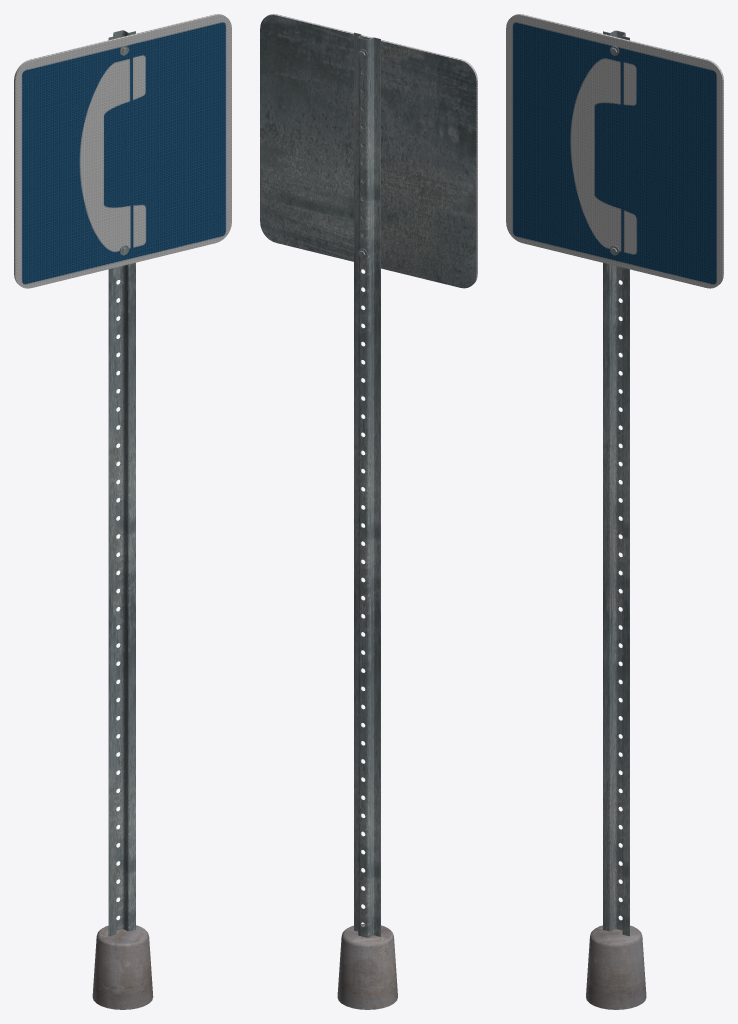
Rendered from telephonesign_nsoc.obj.
3 views of the same model, side by side, from view 1: azimuth 30°, elevation 25°; view 2: azimuth 150°, elevation 25°; view 3: azimuth 330°, elevation 25° (orthographic).
Parts seen in each view (by area): view 1: sign_telephone; view 2: sign_telephone; view 3: sign_telephone.
Part boxes in pixels (bbox=[...]): sign_telephone: bbox=[14, 14, 231, 1009]; sign_telephone: bbox=[260, 14, 477, 1009]; sign_telephone: bbox=[506, 14, 723, 1009].
Size of the model in its own units: 24.09 by 102 by 5.84.
Materials: 3 (3 with a texture image).
